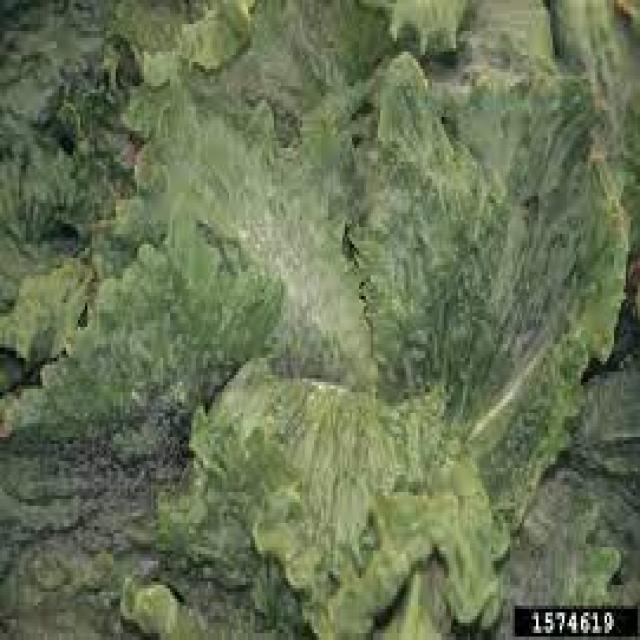Powdery_Mildew: (173, 127, 442, 417)
